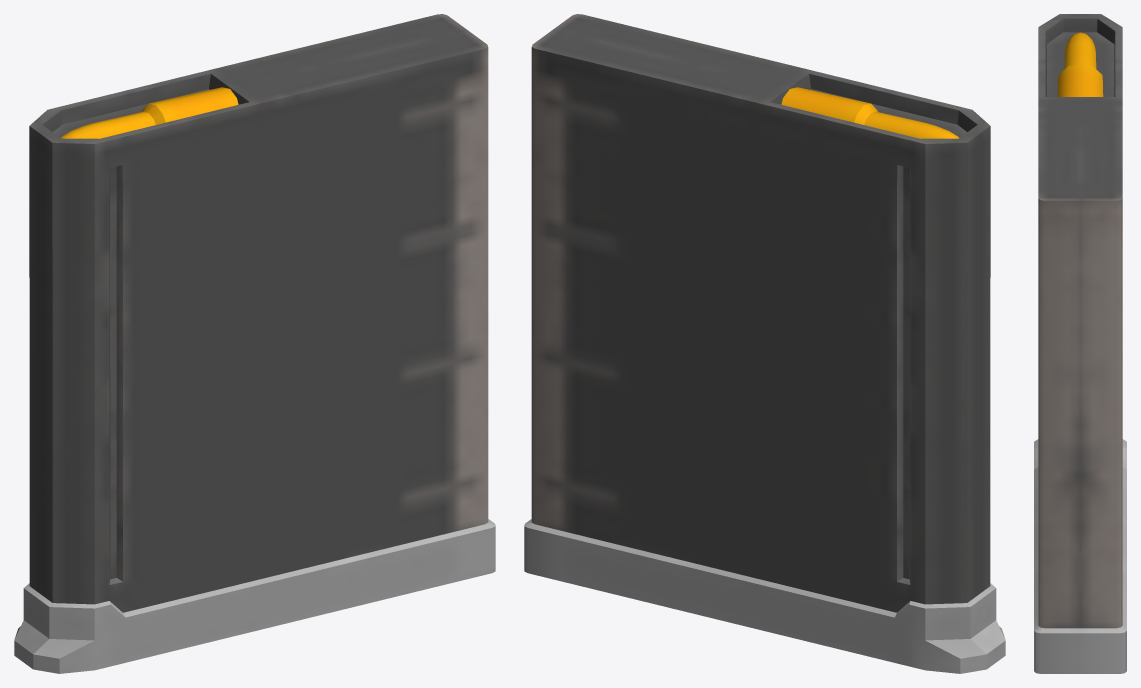
Rendered from q-scifi-ess-gun-sniper-ammo.glb.
The picture shows the model from 3 angles, left to right: view 1: azimuth 30°, elevation 25°; view 2: azimuth 150°, elevation 25°; view 3: azimuth 270°, elevation 25°; orthographic projection. The views are drawn at different scales.
Visible parts, largest first — view 1: Gun_Sniper_Ammo; view 2: Gun_Sniper_Ammo; view 3: Gun_Sniper_Ammo.
Boxes of the visible parts, x1,y1,x2,y2 form: Gun_Sniper_Ammo: (14, 14, 495, 673); Gun_Sniper_Ammo: (524, 14, 1005, 673); Gun_Sniper_Ammo: (1034, 14, 1126, 673).
Size of the model in its own units: 0.1384 by 0.1546 by 0.0275.
1 material, 1 textured.
